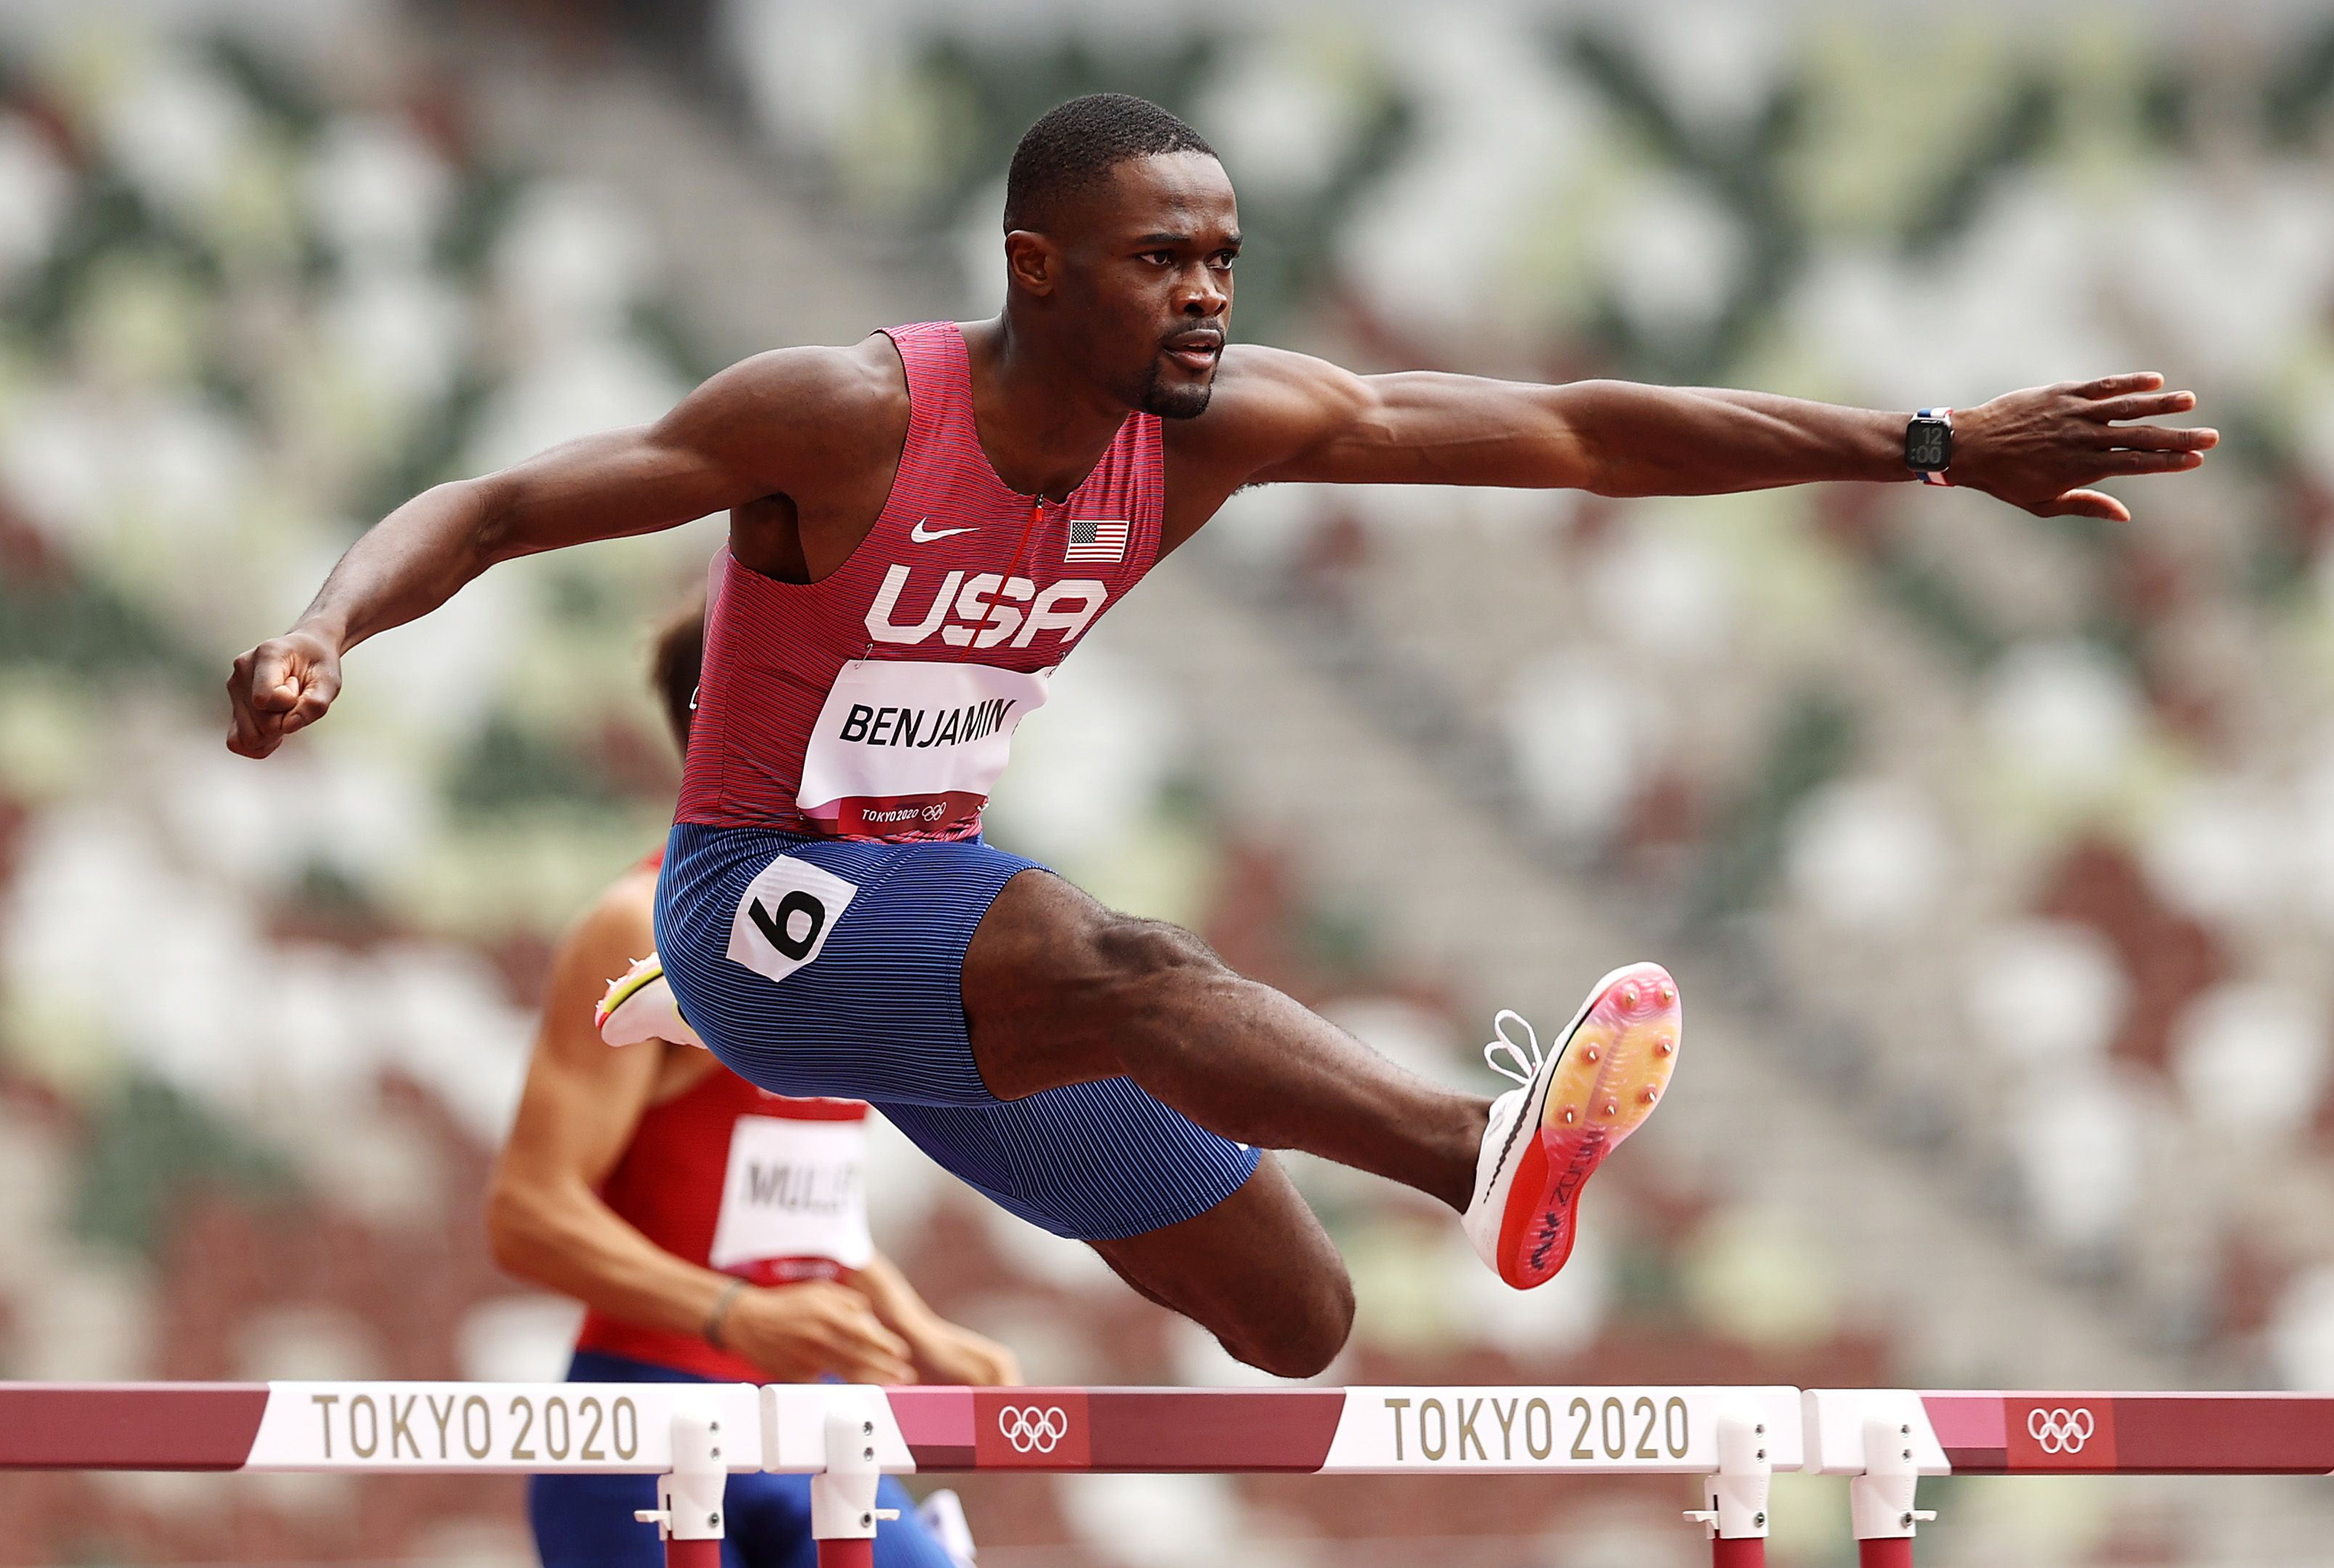runner: (219, 91, 2227, 1384)
